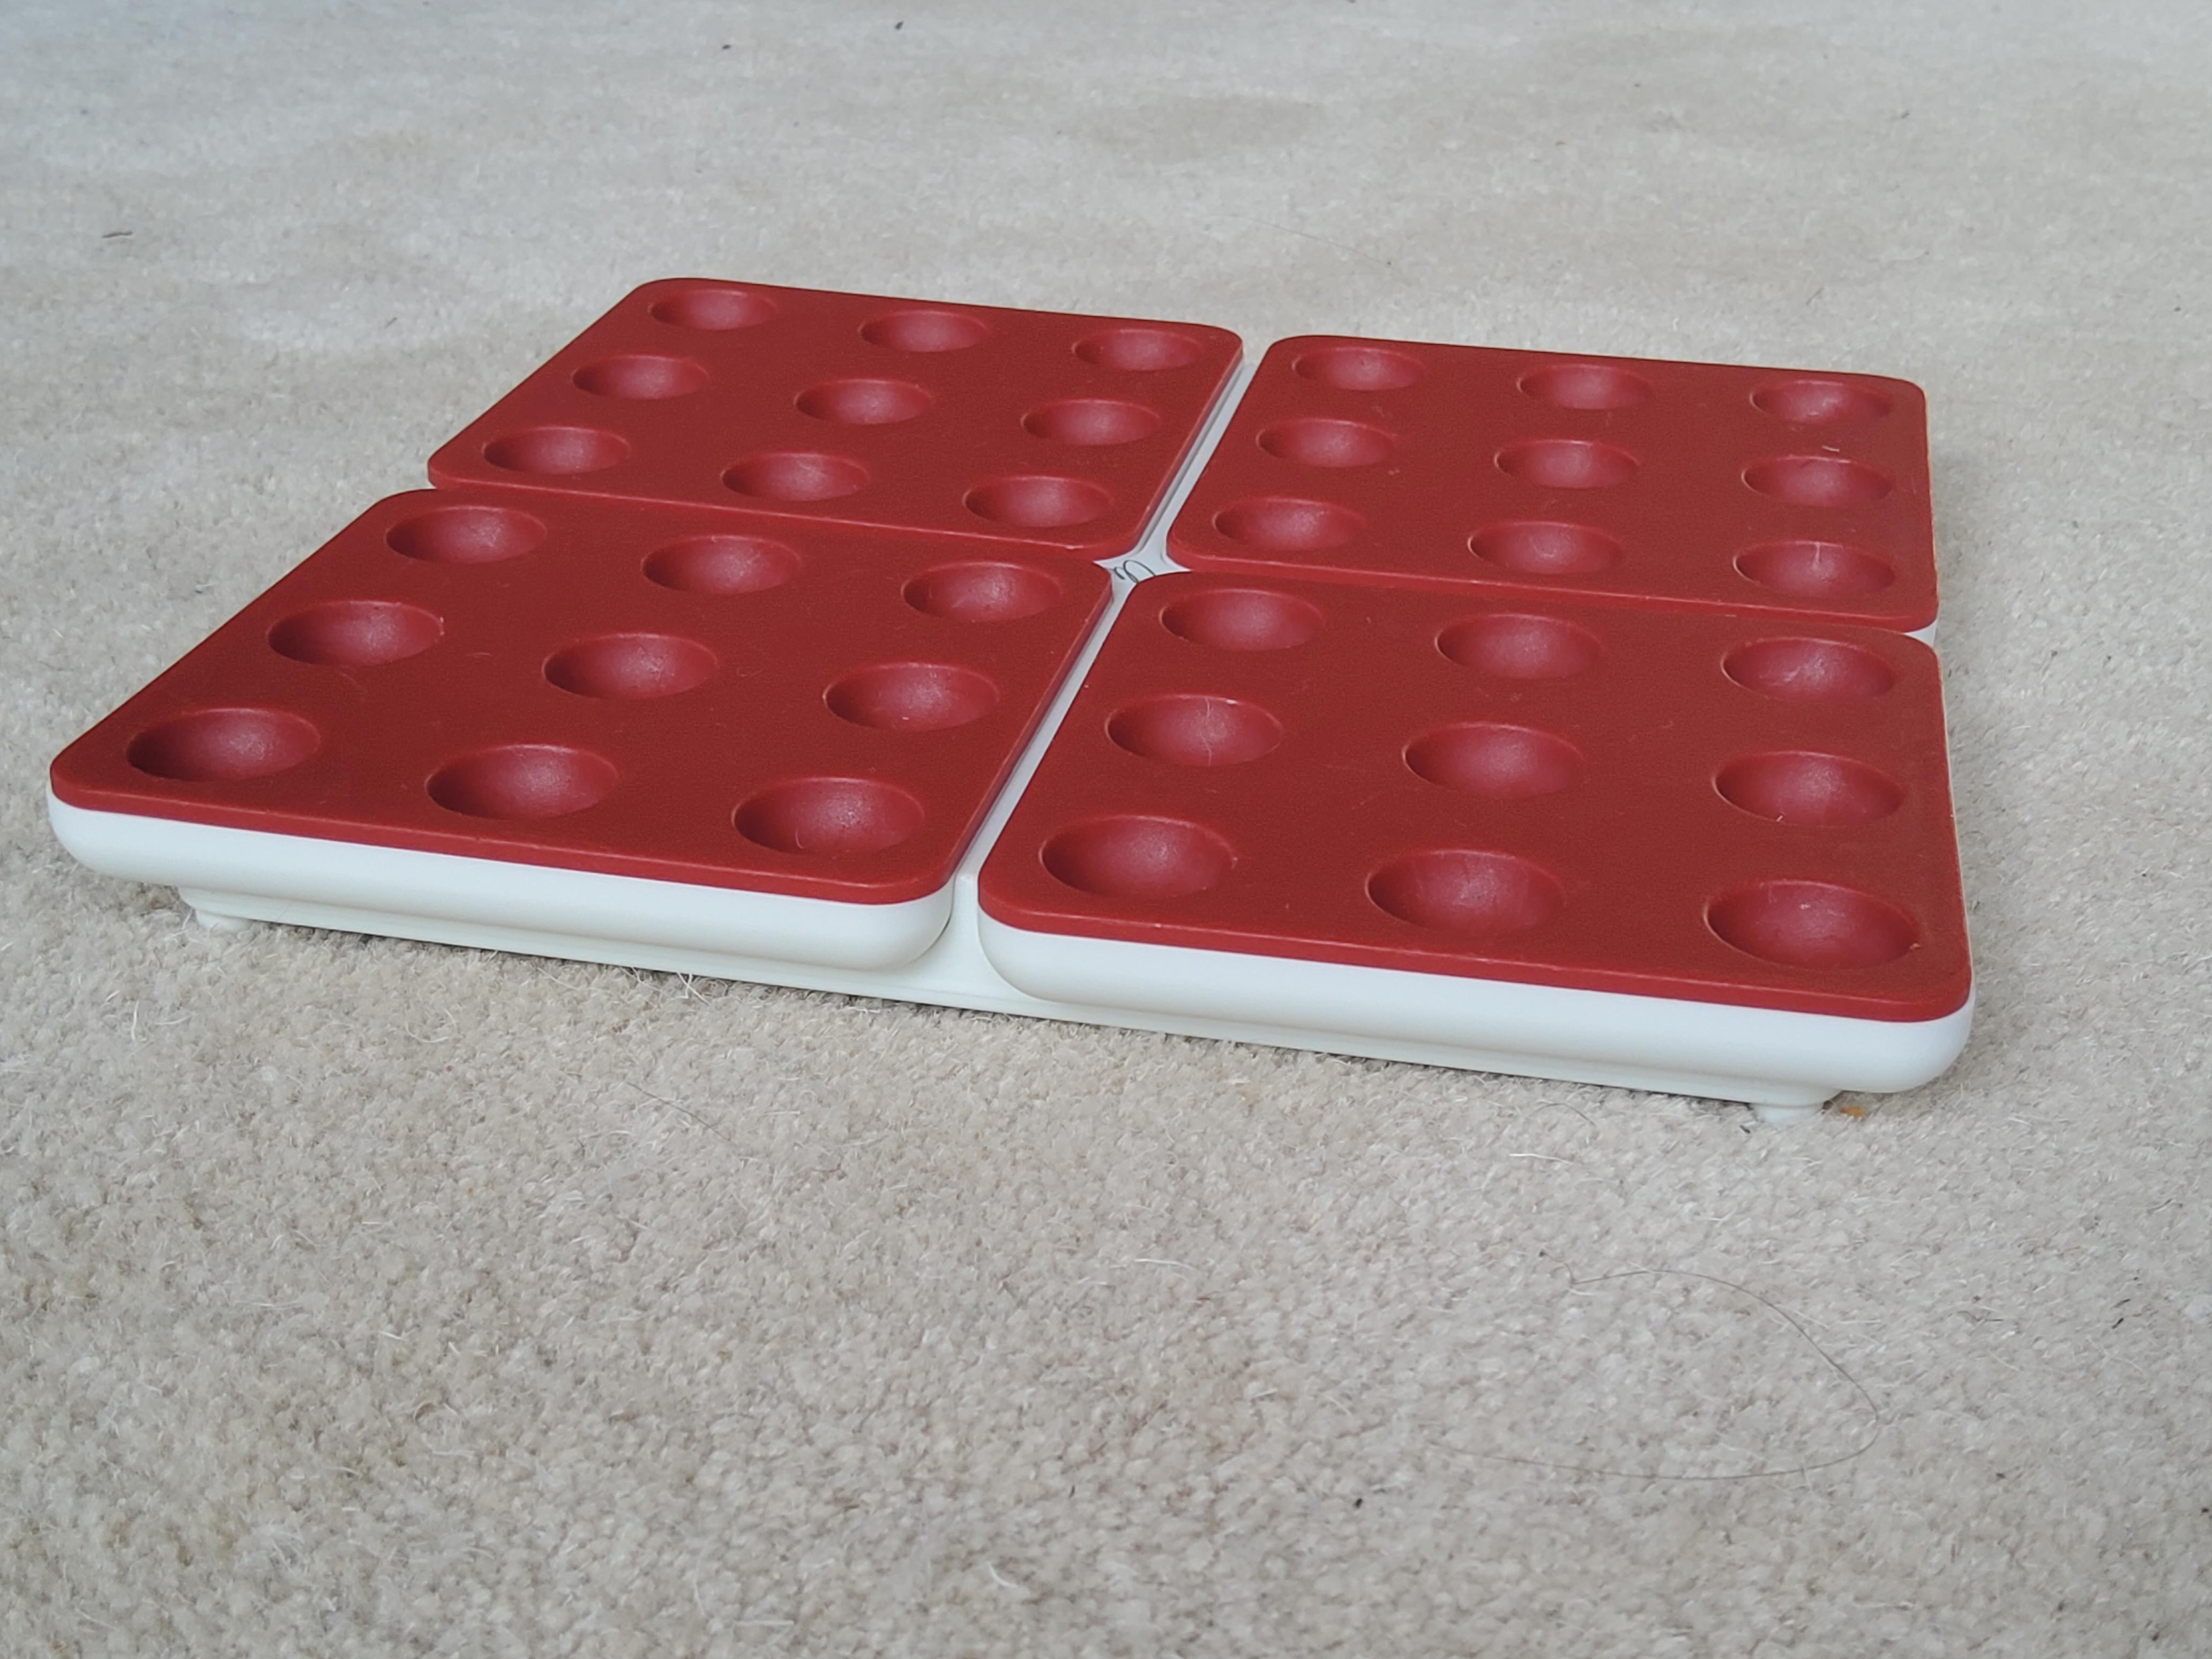schaak: (54, 279, 1982, 1115)
